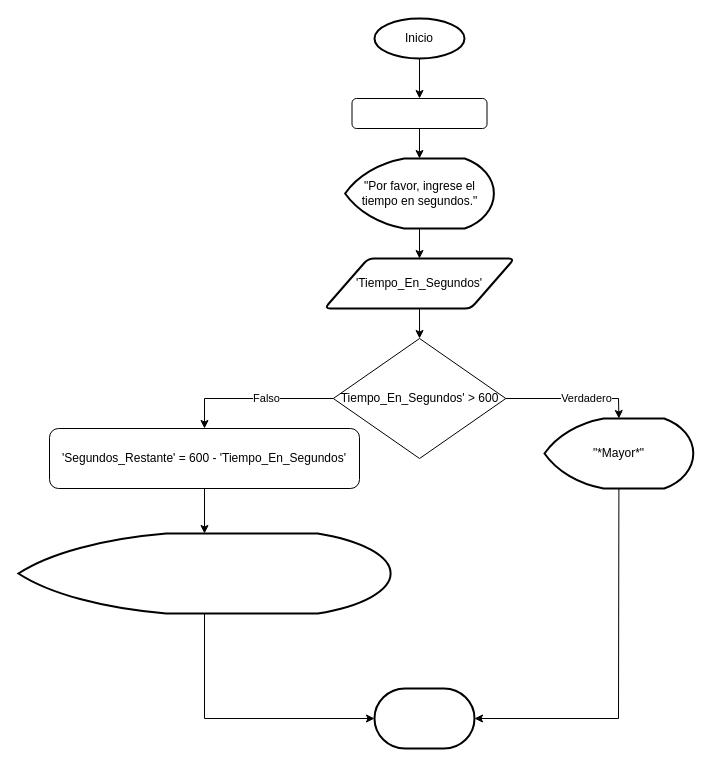
Image size: 711x766. Some labels were removed from this diagram. Here are the shapes that lost their labels. From the top down, the centre of each, then its label:
At pixel 419 113: "Segundos_Restante = 0".
At pixel 204 573: "Los segundos que hacen falta para llegar a 10 minutos son: 'Segundos_Restante'".
At pixel 424 718: "Fin".
